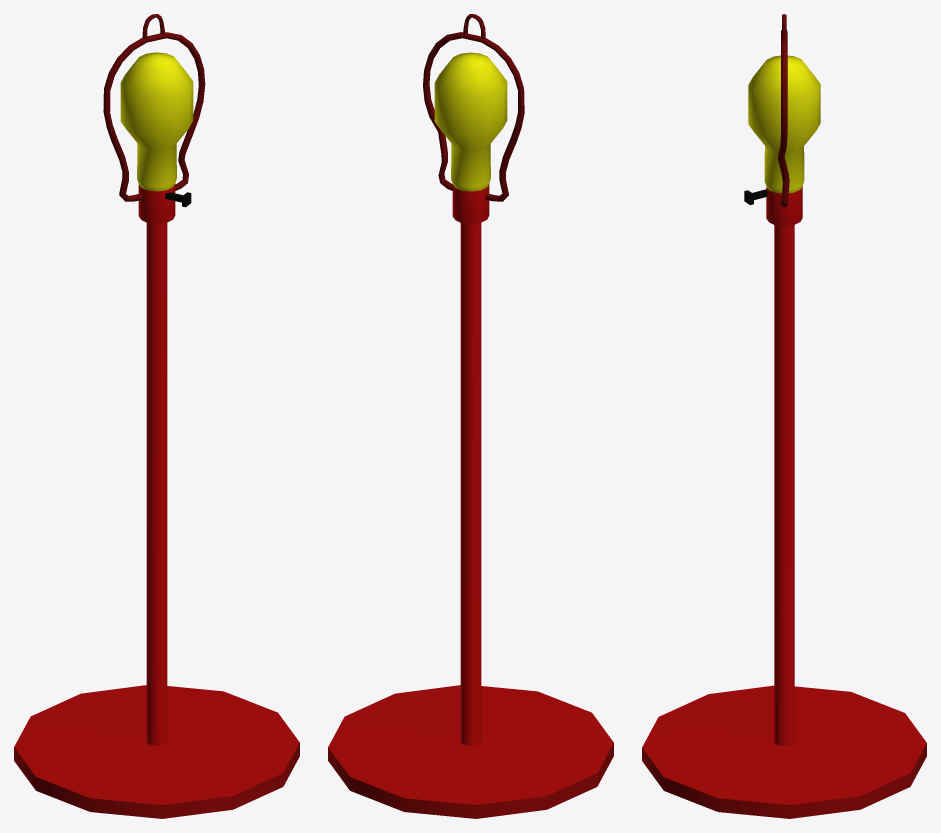
File: BulbLamp002.glb
3 views of the same model, side by side, from view 1: azimuth 30°, elevation 25°; view 2: azimuth 150°, elevation 25°; view 3: azimuth 270°, elevation 25° (orthographic).
Parts seen in each view (by area): view 1: BulbLamp002; view 2: BulbLamp002; view 3: BulbLamp002.
Boxes of the visible parts, left/top/right/bottom form: BulbLamp002: left=14, top=14, right=299, bottom=818; BulbLamp002: left=328, top=14, right=613, bottom=818; BulbLamp002: left=642, top=14, right=926, bottom=818.
Bounding box in the file's own units: 1.62 × 4.67 × 1.62.
